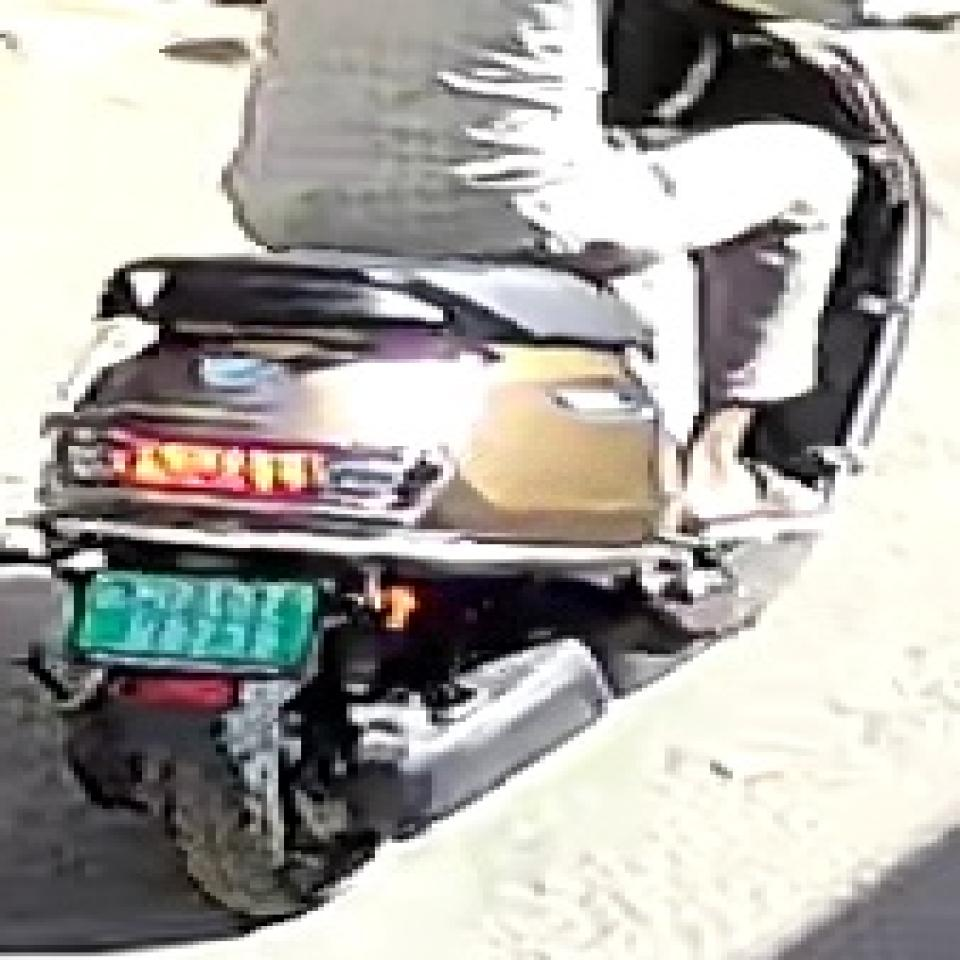tail_light: (117, 422, 324, 504)
